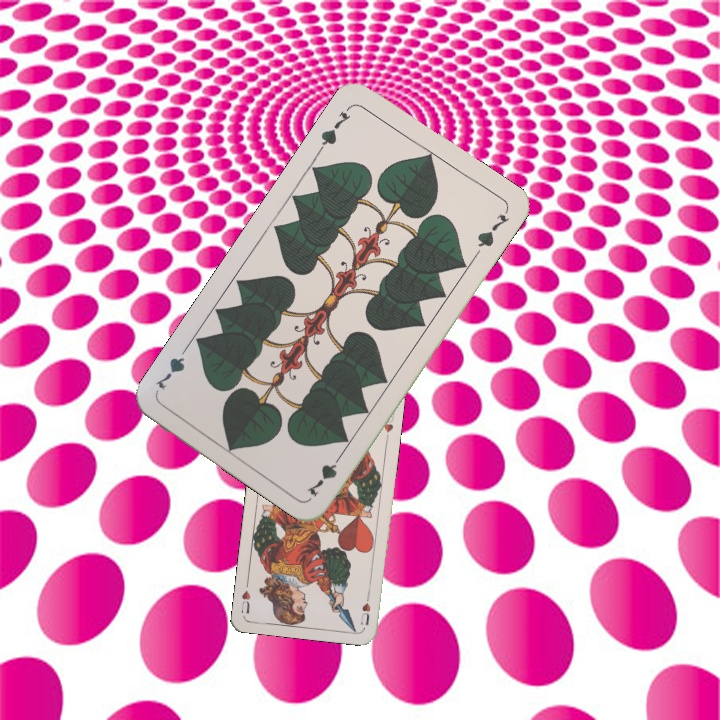G7: (303, 447, 347, 500), (314, 102, 354, 154)
HU: (356, 589, 373, 627)
